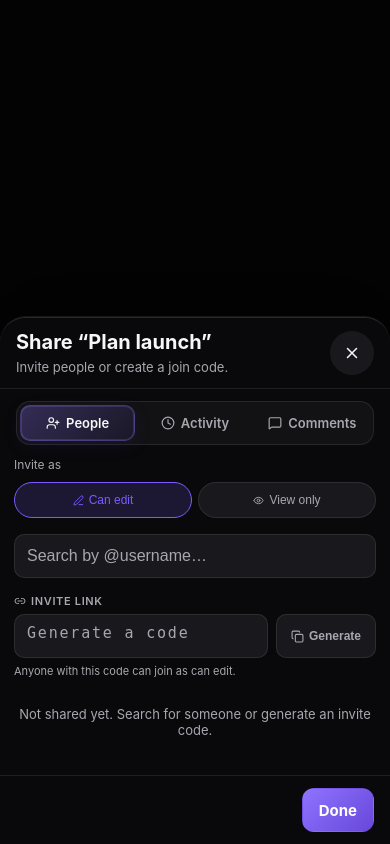
Test case: clicking a search result shares the task with that user
The width and height of the screenshot is (390, 844).
Type "dimon" into the field with placeholder "Search by @username…".
click(195, 556); type("dimon")  # box x1=14 y1=534 x2=376 y2=578
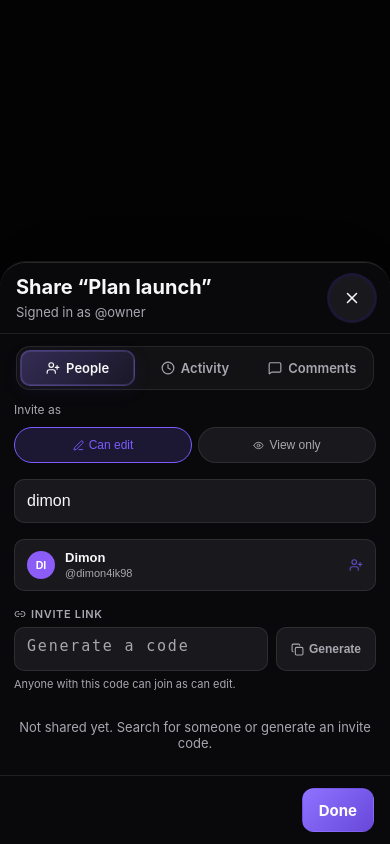
Click the button "DI Dimon @dimon4ik98".
click(85, 558)  # box x1=15 y1=540 x2=375 y2=590
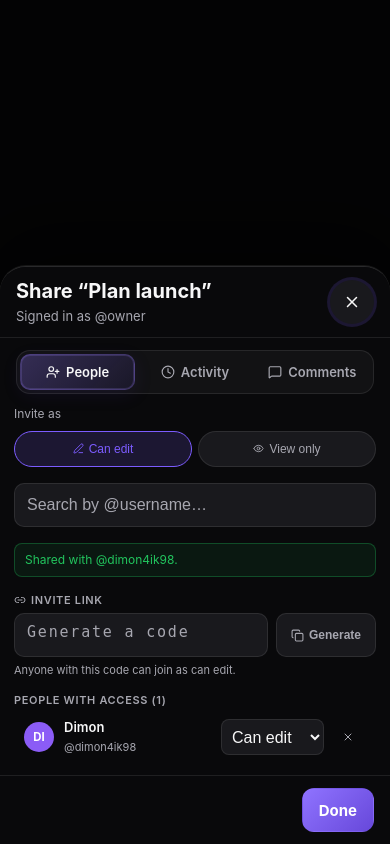
Expected: the message reads "Shared with @dimon4ik98.", x1=25 y1=552 x2=178 y2=567
Expected: the text "People with access (1)" is shown, x1=14 y1=693 x2=166 y2=707
